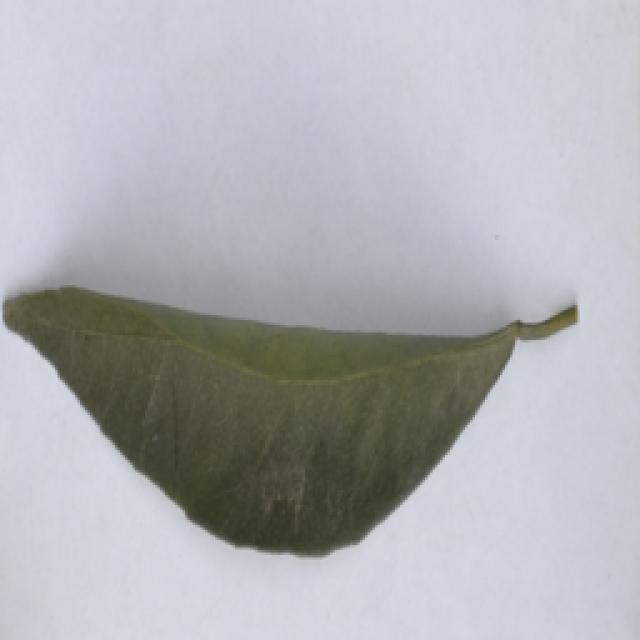healthy: (0, 262, 591, 563)
